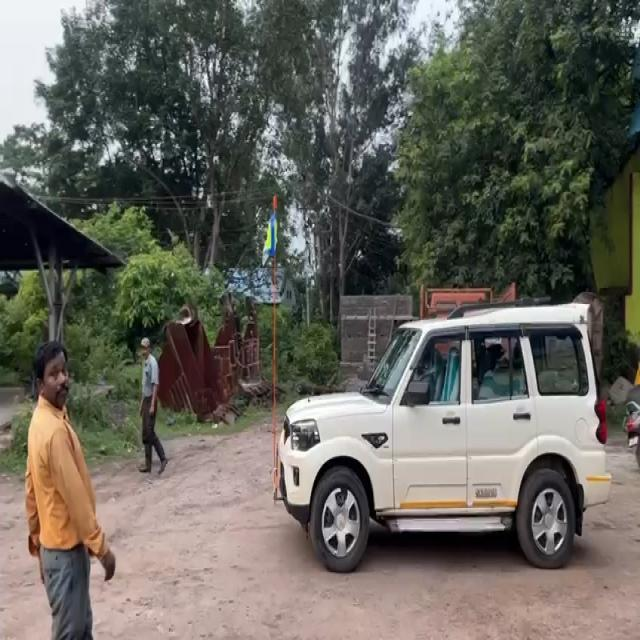light_vehicle: (277, 300, 614, 567)
